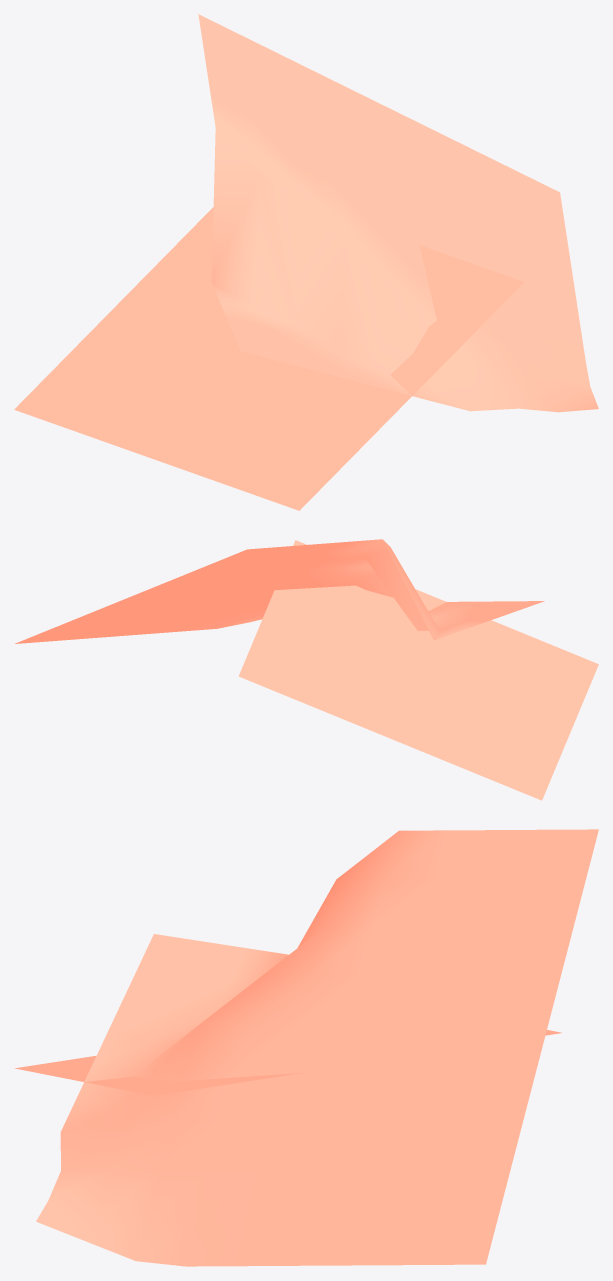
File: wings_dragon.glb
3 renders of one model, top to bottom at view 1: azimuth 30°, elevation 25°; view 2: azimuth 150°, elevation 25°; view 3: azimuth 270°, elevation 25°, orthographic. The views are drawn at different scales.
Parts seen in each view (by area): view 1: wing_dragon_1, wing_dragon_-1; view 2: wing_dragon_-1, wing_dragon_1; view 3: wing_dragon_1, wing_dragon_-1.
Part boxes in pixels (bbox=[...]): wing_dragon_1: bbox=[198, 14, 598, 412]; wing_dragon_-1: bbox=[14, 207, 523, 510]; wing_dragon_-1: bbox=[238, 540, 598, 800]; wing_dragon_1: bbox=[15, 539, 544, 643]; wing_dragon_1: bbox=[36, 829, 598, 1266]; wing_dragon_-1: bbox=[15, 1030, 561, 1095].
Size of the model in its own units: 1.69 by 0.7802 by 1.28.
